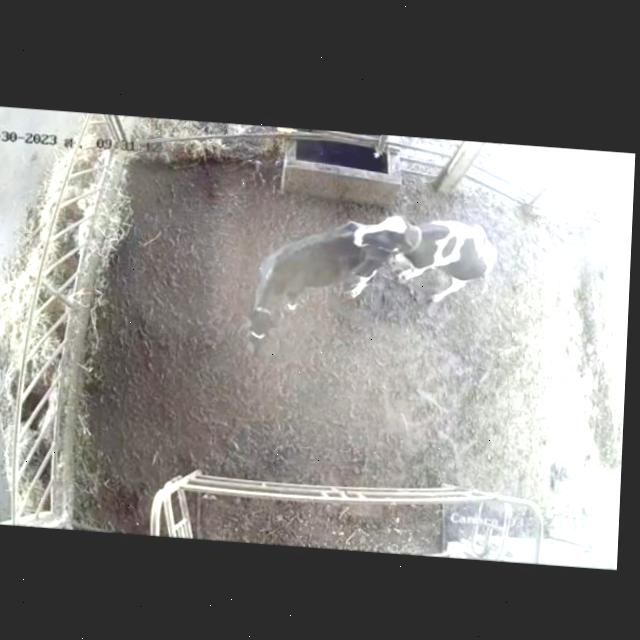propping: (326, 208, 432, 282)
stand: (192, 201, 389, 369)
